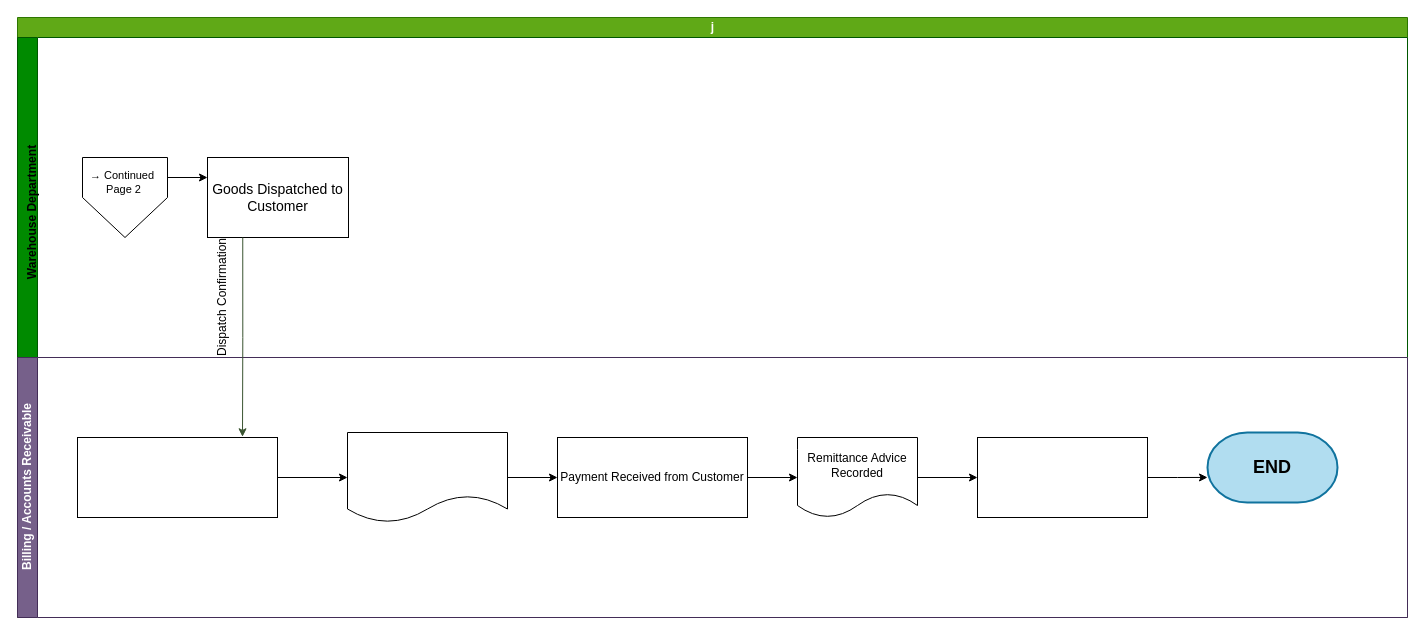
The diagram is 1425 pixels wide and 635 high, and some of its shapes have lost their labels. The centre of each missing label's shape, as x and y in pixels:
Cash Posted to Accounts Receivable: (x=1062, y=477)
Dispatch Confirmation Received: (x=177, y=477)
Invoice Generated & Sent to Customer: (x=427, y=477)
